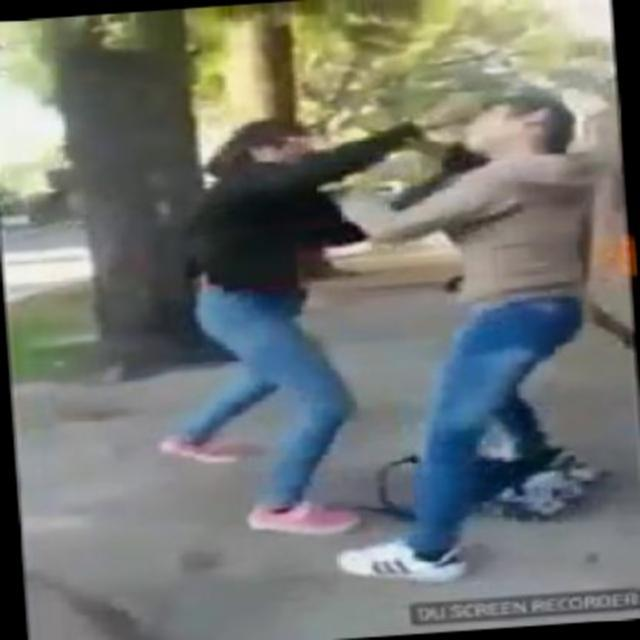fight: (178, 87, 620, 438)
